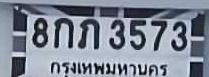3: (108, 19, 124, 49), (170, 20, 186, 50)
5: (129, 19, 145, 49)
7: (150, 20, 166, 50)
8: (31, 17, 47, 47)
A01: (53, 17, 73, 47)
A32: (77, 18, 99, 48)
BKK: (50, 57, 167, 77)
